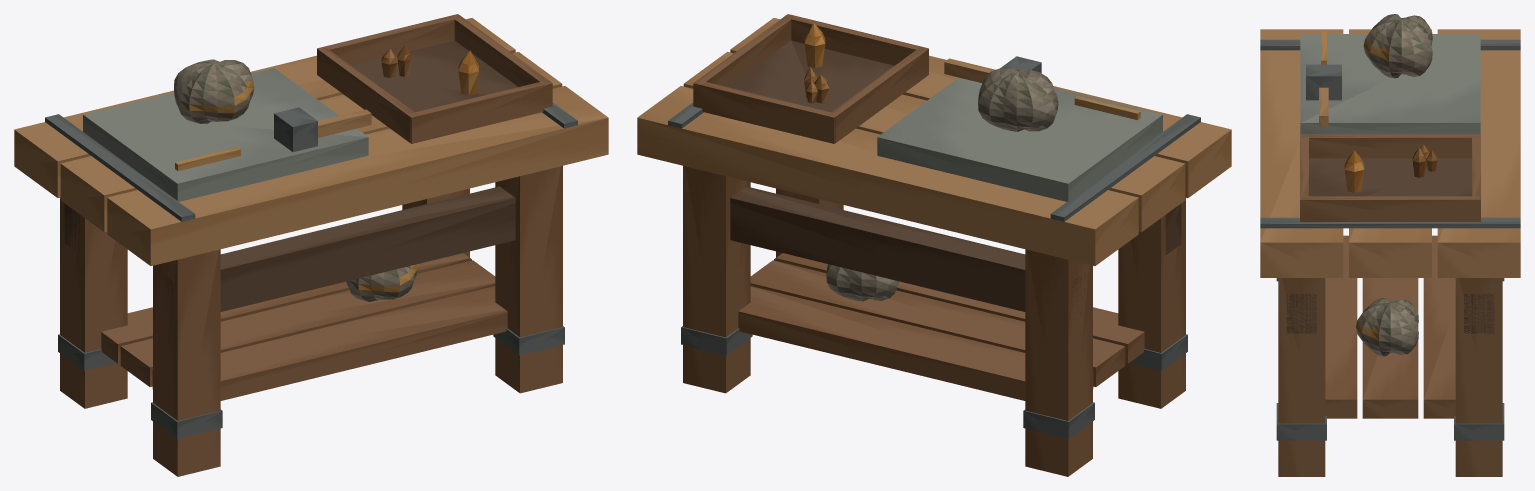
Rendered from earth-workstation.glb.
The picture shows the model from 3 angles, left to right: view 1: azimuth 30°, elevation 25°; view 2: azimuth 150°, elevation 25°; view 3: azimuth 270°, elevation 25°; orthographic projection. The views are drawn at different scales.
Visible parts, largest first — view 1: workstation; view 2: workstation; view 3: workstation.
Boxes of the visible parts, left/top/right/bottom form: workstation: left=14, top=14, right=608, bottom=476; workstation: left=637, top=14, right=1231, bottom=476; workstation: left=1260, top=14, right=1520, bottom=476.
Bounding box in the file's own units: 1.82 × 1.3 × 0.94.
Materials: 1 (1 with a texture image).
